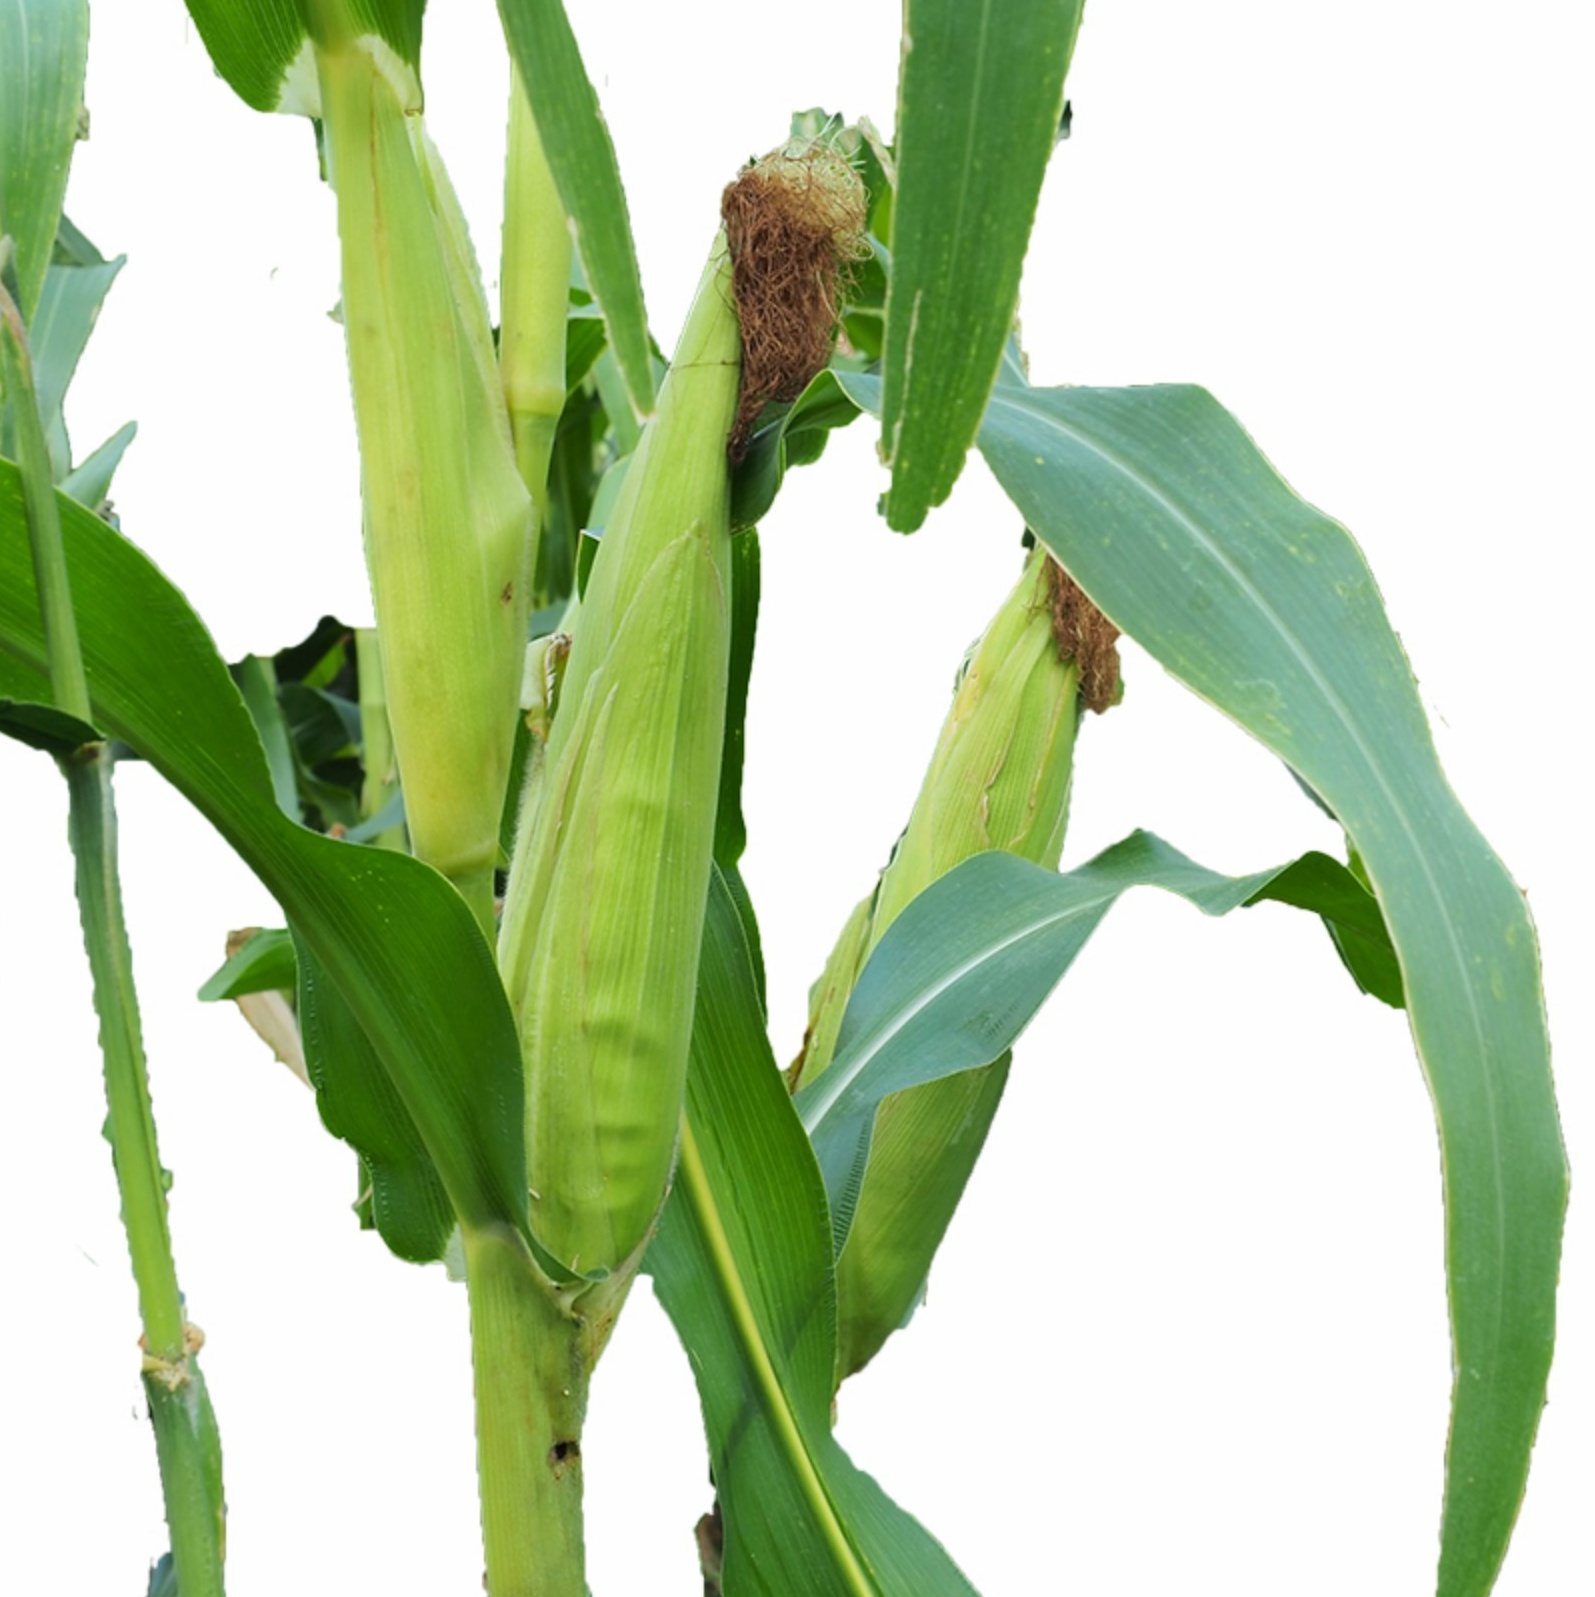corn_plant: (757, 416, 1189, 1451), (483, 117, 827, 1411), (269, 7, 524, 1249)
